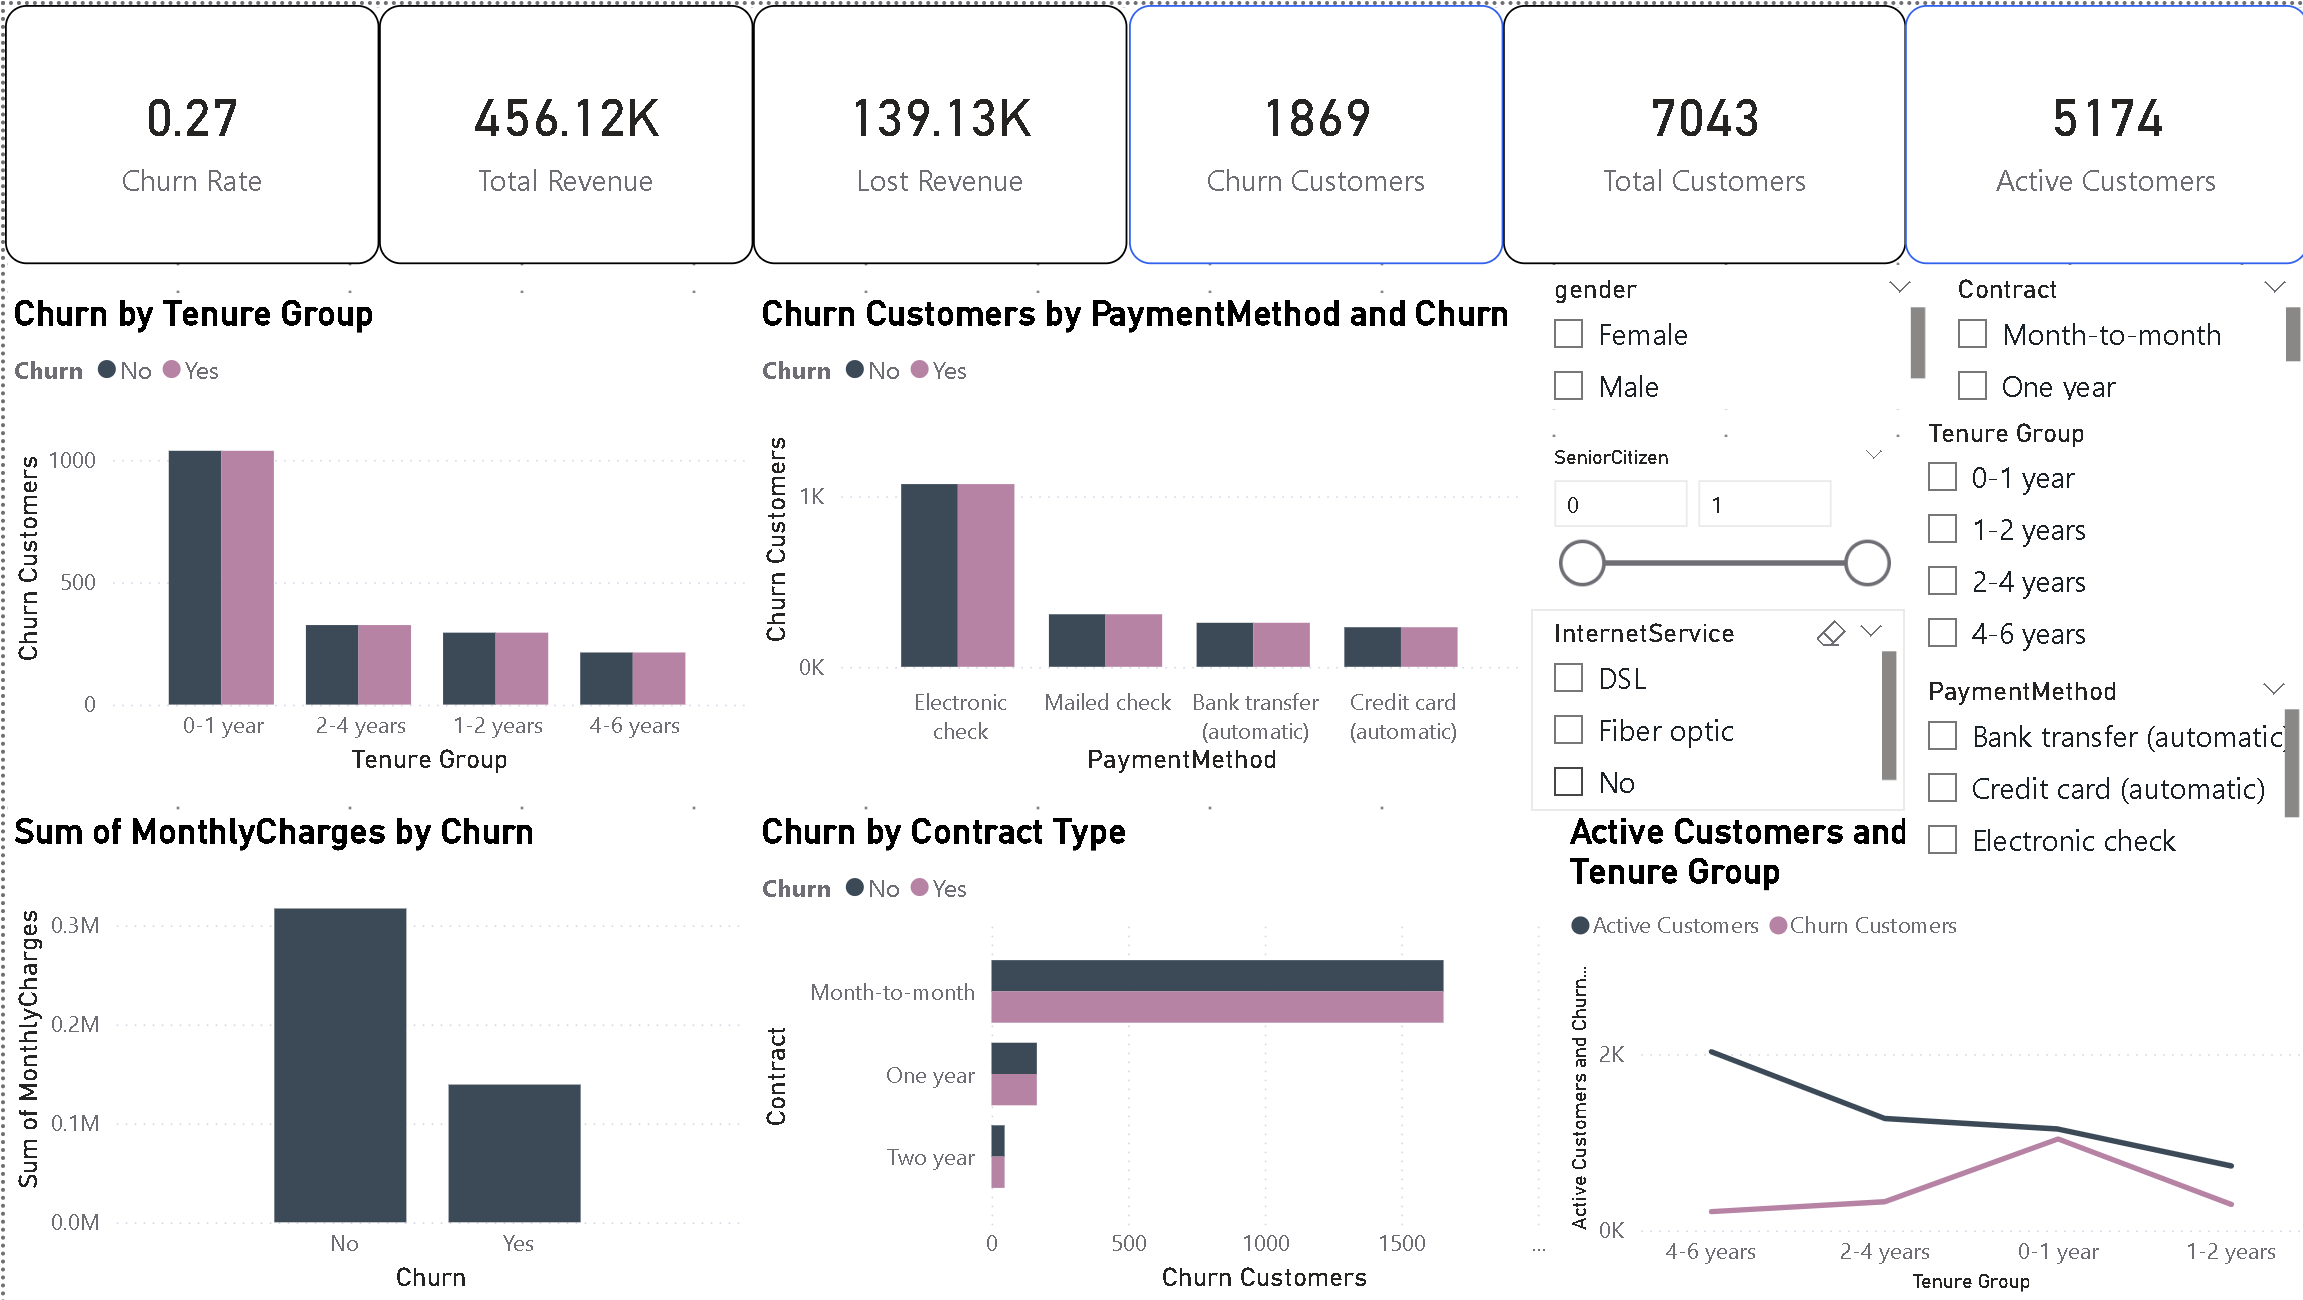

Layout of this report page (visuals, bound fields, positions):
{"tool":"powerbi","page":{"name":"Page 1","canvas":[1280,720],"ordinal":0},"visuals":[{"type":"card","fields":{"Values":["WA_Fn-UseC_-Telco-Customer-Churn.Total Customers"]},"box":[832,0,224,144],"z":0},{"type":"card","fields":{"Values":["WA_Fn-UseC_-Telco-Customer-Churn.Active Customers"]},"box":[1056,0,224,144],"z":1000},{"type":"card","fields":{"Values":["WA_Fn-UseC_-Telco-Customer-Churn.Churn Customers"]},"box":[624,0,208,144],"z":2000},{"type":"card","fields":{"Values":["WA_Fn-UseC_-Telco-Customer-Churn.Churn Rate"]},"box":[0,0,208,144],"z":3000},{"type":"card","fields":{"Values":["WA_Fn-UseC_-Telco-Customer-Churn.Total Revenue"]},"box":[208,0,208,144],"z":4000},{"type":"card","fields":{"Values":["WA_Fn-UseC_-Telco-Customer-Churn.Lost Revenue"]},"box":[416,0,208,144],"z":5000},{"type":"clusteredColumnChart","title":"Churn by Tenure Group","fields":{"Category":["WA_Fn-UseC_-Telco-Customer-Churn.Tenure Group"],"Y":["WA_Fn-UseC_-Telco-Customer-Churn.Churn Customers"],"Series":["WA_Fn-UseC_-Telco-Customer-Churn.Churn"]},"box":[0,160,416,272],"z":6000},{"type":"clusteredBarChart","title":"Churn by Contract Type","fields":{"Category":["WA_Fn-UseC_-Telco-Customer-Churn.Contract"],"Y":["WA_Fn-UseC_-Telco-Customer-Churn.Churn Customers"],"Series":["WA_Fn-UseC_-Telco-Customer-Churn.Churn"]},"box":[416,448,448,272],"z":7000},{"type":"clusteredColumnChart","fields":{"Category":["WA_Fn-UseC_-Telco-Customer-Churn.PaymentMethod"],"Y":["WA_Fn-UseC_-Telco-Customer-Churn.Churn Customers"],"Series":["WA_Fn-UseC_-Telco-Customer-Churn.Churn"]},"box":[416,160,432,272],"z":8000},{"type":"columnChart","fields":{"Y":["Sum(WA_Fn-UseC_-Telco-Customer-Churn.MonthlyCharges)"],"Category":["WA_Fn-UseC_-Telco-Customer-Churn.Churn"]},"box":[0,448,416,272],"z":9000},{"type":"slicer","fields":{"Values":["WA_Fn-UseC_-Telco-Customer-Churn.gender"]},"box":[848,144,224,80],"z":10000},{"type":"lineChart","fields":{"Y":["WA_Fn-UseC_-Telco-Customer-Churn.Active Customers","WA_Fn-UseC_-Telco-Customer-Churn.Churn Customers"],"Category":["WA_Fn-UseC_-Telco-Customer-Churn.Tenure Group"]},"box":[864,448,416,272],"z":10001},{"type":"slicer","fields":{"Values":["WA_Fn-UseC_-Telco-Customer-Churn.SeniorCitizen"]},"box":[848,240,208,96],"z":10002},{"type":"slicer","fields":{"Values":["WA_Fn-UseC_-Telco-Customer-Churn.Contract"]},"box":[1072,144,208,80],"z":10003},{"type":"slicer","fields":{"Values":["WA_Fn-UseC_-Telco-Customer-Churn.Tenure Group"]},"box":[1056,224,224,144],"z":10004},{"type":"slicer","fields":{"Values":["WA_Fn-UseC_-Telco-Customer-Churn.InternetService"]},"box":[848,336,208,112],"z":10005},{"type":"slicer","fields":{"Values":["WA_Fn-UseC_-Telco-Customer-Churn.PaymentMethod"]},"box":[1056,368,224,112],"z":10006}]}

Visuals, with their boxes in screenshot pixels (x1, y1, x2, y2), scaled from the page's 1280x720 canvas onto the 2303x1300 screenshot:
card - WA_Fn-UseC_-Telco-Customer-Churn.Total Customers: locate(1497, 0, 1900, 260)
card - WA_Fn-UseC_-Telco-Customer-Churn.Active Customers: locate(1900, 0, 2302, 260)
card - WA_Fn-UseC_-Telco-Customer-Churn.Churn Customers: locate(1123, 0, 1497, 260)
card - WA_Fn-UseC_-Telco-Customer-Churn.Churn Rate: locate(0, 0, 374, 260)
card - WA_Fn-UseC_-Telco-Customer-Churn.Total Revenue: locate(374, 0, 748, 260)
card - WA_Fn-UseC_-Telco-Customer-Churn.Lost Revenue: locate(748, 0, 1123, 260)
"Churn by Tenure Group" clusteredColumnChart: locate(0, 289, 748, 780)
"Churn by Contract Type" clusteredBarChart: locate(748, 809, 1555, 1299)
clusteredColumnChart - WA_Fn-UseC_-Telco-Customer-Churn.PaymentMethod x WA_Fn-UseC_-Telco-Customer-Churn.Churn Customers: locate(748, 289, 1526, 780)
columnChart - Sum(WA_Fn-UseC_-Telco-Customer-Churn.MonthlyCharges) x WA_Fn-UseC_-Telco-Customer-Churn.Churn: locate(0, 809, 748, 1299)
slicer - WA_Fn-UseC_-Telco-Customer-Churn.gender: locate(1526, 260, 1929, 404)
lineChart - WA_Fn-UseC_-Telco-Customer-Churn.Active Customers x WA_Fn-UseC_-Telco-Customer-Churn.Churn Customers: locate(1555, 809, 2302, 1299)
slicer - WA_Fn-UseC_-Telco-Customer-Churn.SeniorCitizen: locate(1526, 433, 1900, 607)
slicer - WA_Fn-UseC_-Telco-Customer-Churn.Contract: locate(1929, 260, 2302, 404)
slicer - WA_Fn-UseC_-Telco-Customer-Churn.Tenure Group: locate(1900, 404, 2302, 664)
slicer - WA_Fn-UseC_-Telco-Customer-Churn.InternetService: locate(1526, 607, 1900, 809)
slicer - WA_Fn-UseC_-Telco-Customer-Churn.PaymentMethod: locate(1900, 664, 2302, 867)
